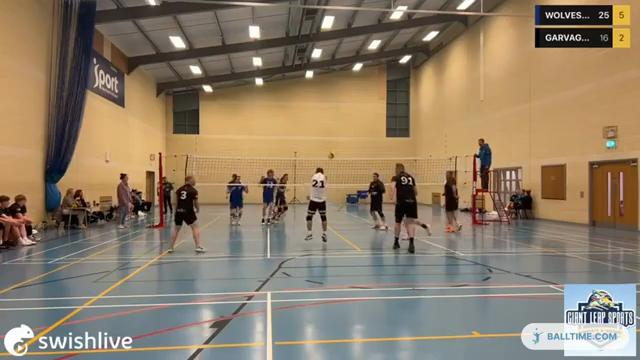ricezione: (300, 165, 329, 246)
